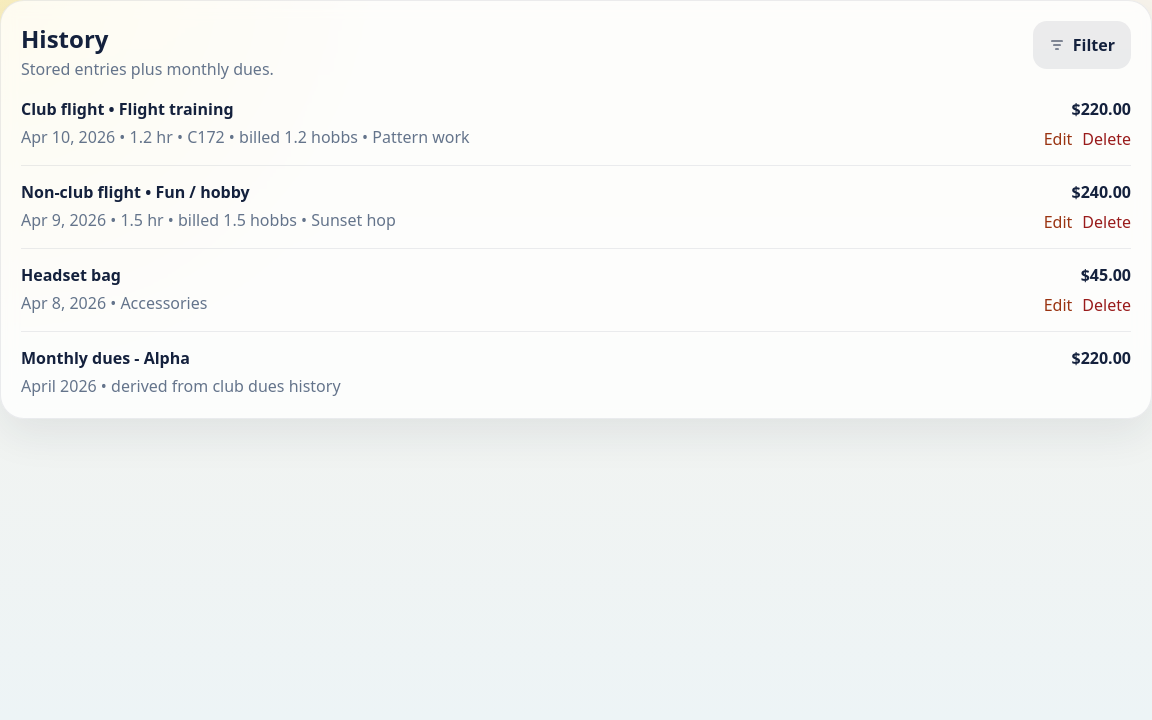
Test: HistoryPage › filters the list by entry type for flights
The width and height of the screenshot is (1152, 720).
Click the button "Filter". click: [1082, 45]
box: [1033,21,1131,69]
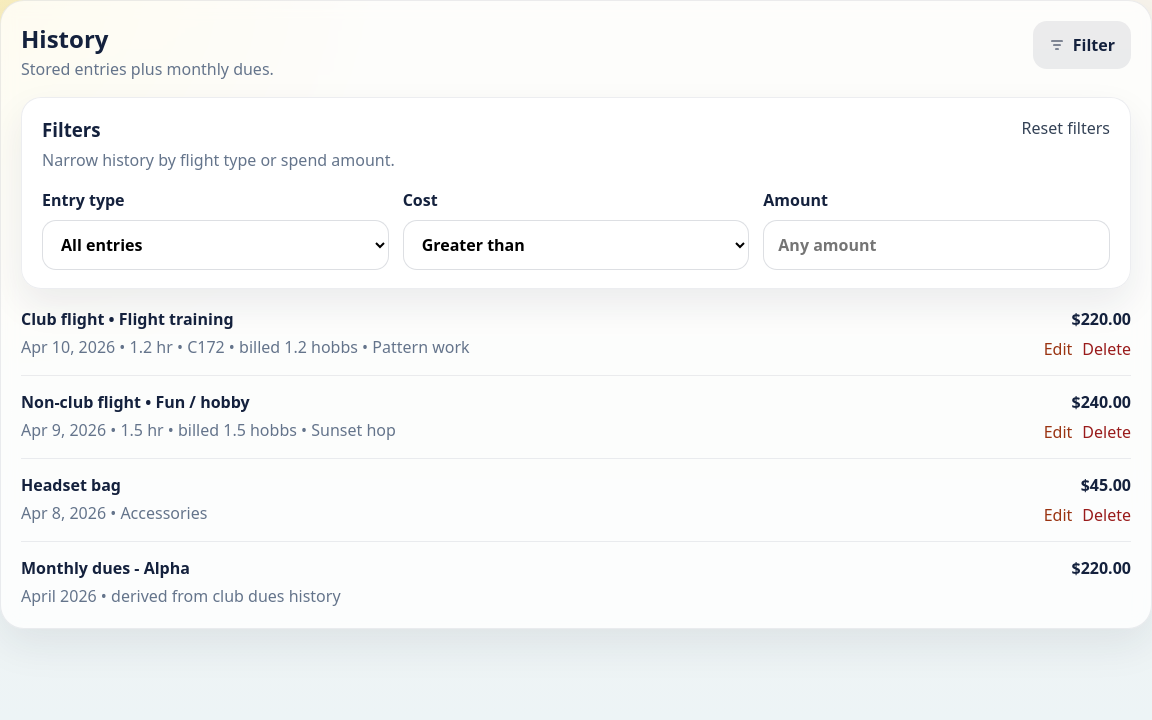
Select "Flight - Flight training" in the dropdown labelled "Entry type". click: [215, 245]
box: [42,220,389,270]
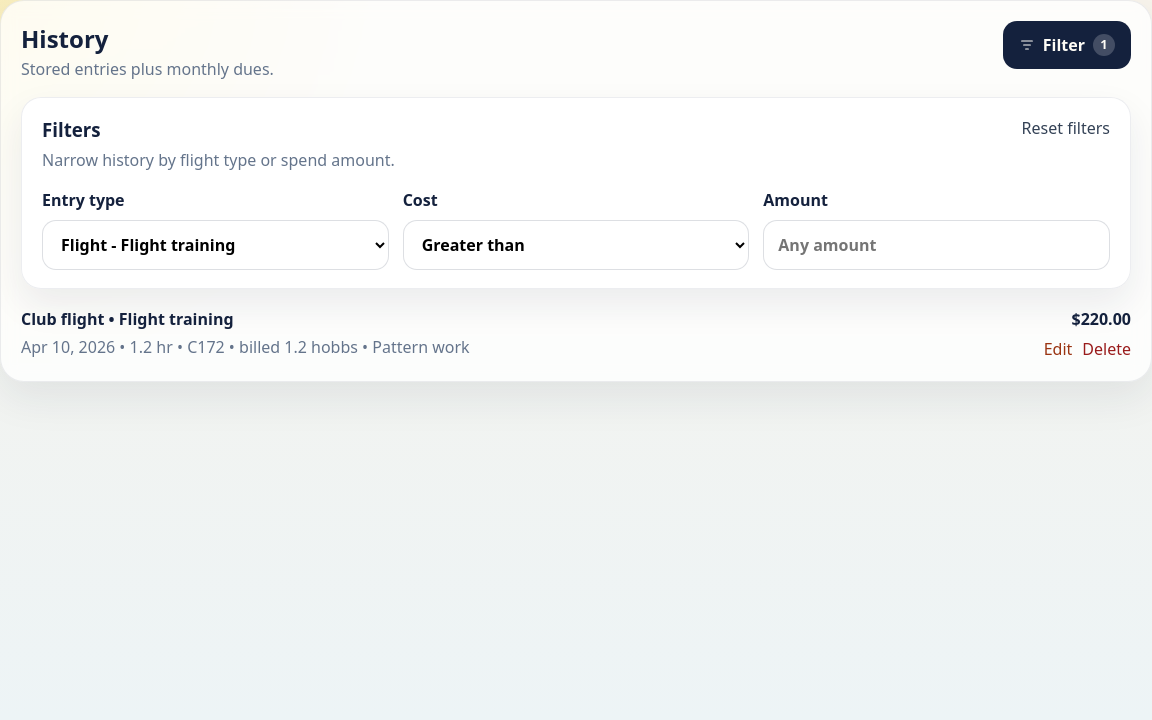
Now the text "Non-club flight" is gone
Now the text "Headset bag" is gone
Now the text "Monthly dues - Alpha" is gone
